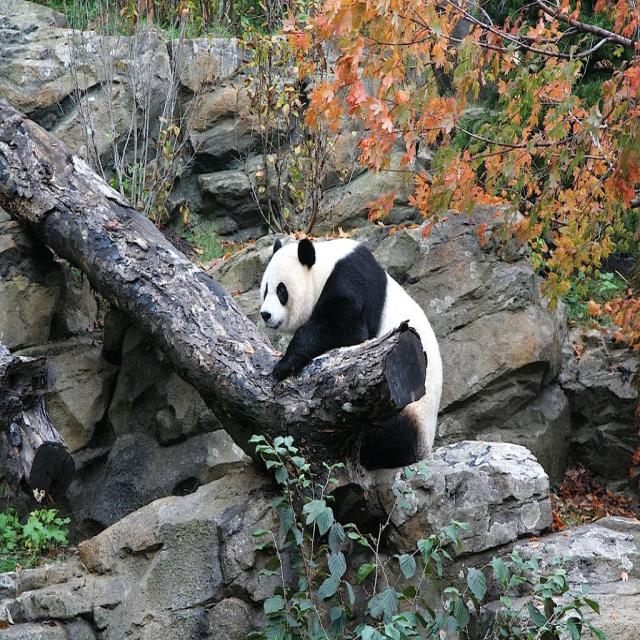panda: (256, 236, 442, 472)
